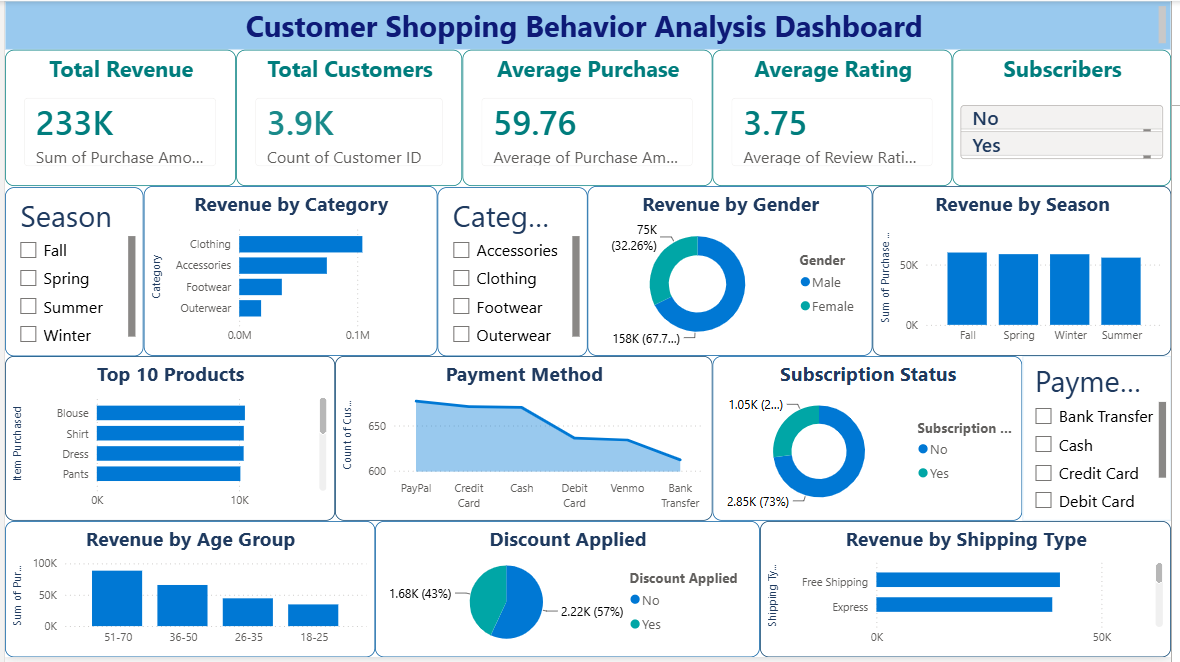

The dashboard page shown, as its layout file describes it:
{"tool":"powerbi","page":{"name":"Page 1","canvas":[1280,720],"ordinal":0},"visuals":[{"type":"textbox","box":[0,0,1280.3,53.5],"z":0},{"type":"cardVisual","title":"Total Revenue","fields":{"Data":["Sum(shopping_behavior_cleaned.Purchase Amount (USD))"]},"box":[0,53.5,253.9,149.6],"z":1000},{"type":"cardVisual","title":"Total Customers","fields":{"Data":["CountNonNull(shopping_behavior_cleaned.Customer ID)"]},"box":[253.9,53.5,248.4,149.6],"z":2000},{"type":"cardVisual","title":"Average Purchase","fields":{"Data":["Avg(shopping_behavior_cleaned.Purchase Amount (USD))"]},"box":[502.2,53.5,274.4,149.6],"z":3000},{"type":"cardVisual","title":"Average Rating","fields":{"Data":["Avg(shopping_behavior_cleaned.Review Rating)"]},"box":[776.7,53.5,263.5,149.6],"z":4000},{"type":"cardVisual","title":"Subscribers","fields":{"Rows":["shopping_behavior_cleaned.Subscription Status"]},"box":[1040.1,53.5,240.1,149.6],"z":5000},{"type":"clusteredBarChart","title":"Revenue by Category","fields":{"Category":["shopping_behavior_cleaned.Category"],"Y":["Sum(shopping_behavior_cleaned.Purchase Amount (USD))"]},"box":[152.3,203.1,322.5,186.6],"z":6000},{"type":"donutChart","title":"Revenue by Gender ","fields":{"Category":["shopping_behavior_cleaned.Gender"],"Y":["Sum(shopping_behavior_cleaned.Purchase Amount (USD))"]},"box":[639.5,203.1,312.9,186.6],"z":7000},{"type":"clusteredColumnChart","title":"Revenue by Season  ","fields":{"Category":["shopping_behavior_cleaned.Season"],"Y":["Sum(shopping_behavior_cleaned.Purchase Amount (USD))"]},"box":[952.3,203.1,328,186.6],"z":8000},{"type":"clusteredBarChart","title":"Top 10 Products ","fields":{"Category":["shopping_behavior_cleaned.Item Purchased"],"Y":["Sum(shopping_behavior_cleaned.Purchase Amount (USD))"]},"box":[0,389.7,362.3,181.1],"z":9000},{"type":"areaChart","title":"Payment Method","fields":{"Category":["shopping_behavior_cleaned.Payment Method"],"Y":["CountNonNull(shopping_behavior_cleaned.Customer ID)"]},"box":[362.3,389.7,414.4,181.1],"z":10000},{"type":"donutChart","title":"Subscription Status   ","fields":{"Category":["shopping_behavior_cleaned.Subscription Status"],"Y":["CountNonNull(shopping_behavior_cleaned.Customer ID)"]},"box":[776.7,389.7,340.3,181.1],"z":11000},{"type":"clusteredColumnChart","title":"Revenue by Age Group","fields":{"Category":["shopping_behavior_cleaned.Age Group"],"Y":["Sum(shopping_behavior_cleaned.Purchase Amount (USD))"]},"box":[0,570.8,406.2,149.6],"z":12000},{"type":"pieChart","title":"Discount Applied","fields":{"Category":["shopping_behavior_cleaned.Discount Applied"],"Y":["CountNonNull(shopping_behavior_cleaned.Customer ID)"]},"box":[406.2,570.8,422.6,149.6],"z":13000},{"type":"clusteredBarChart","title":"Revenue by Shipping Type","fields":{"Category":["shopping_behavior_cleaned.Shipping Type"],"Y":["Sum(shopping_behavior_cleaned.Purchase Amount (USD))"]},"box":[828.8,570.8,451.5,149.6],"z":14000},{"type":"slicer","fields":{"Values":["shopping_behavior_cleaned.Season"]},"box":[0,204.5,152.3,185.2],"z":14001},{"type":"slicer","fields":{"Values":["shopping_behavior_cleaned.Category"]},"box":[474.8,204.5,164.7,185.2],"z":14002},{"type":"slicer","fields":{"Values":["shopping_behavior_cleaned.Payment Method"]},"box":[1117,390,163,181],"z":14003}]}

Visuals, with their boxes in screenshot pixels (x1, y1, x2, y2), scaled from the page's 1280x720 canvas onto the 1180x662 screenshot:
textbox: (0,0,1179,49)
"Total Revenue" cardVisual: (0,49,234,187)
"Total Customers" cardVisual: (234,49,463,187)
"Average Purchase" cardVisual: (463,49,716,187)
"Average Rating" cardVisual: (716,49,959,187)
"Subscribers" cardVisual: (959,49,1179,187)
"Revenue by Category" clusteredBarChart: (140,187,438,358)
"Revenue by Gender " donutChart: (590,187,878,358)
"Revenue by Season  " clusteredColumnChart: (878,187,1179,358)
"Top 10 Products " clusteredBarChart: (0,358,334,525)
"Payment Method" areaChart: (334,358,716,525)
"Subscription Status   " donutChart: (716,358,1030,525)
"Revenue by Age Group" clusteredColumnChart: (0,525,374,661)
"Discount Applied" pieChart: (374,525,764,661)
"Revenue by Shipping Type" clusteredBarChart: (764,525,1179,661)
slicer - shopping_behavior_cleaned.Season: (0,188,140,358)
slicer - shopping_behavior_cleaned.Category: (438,188,590,358)
slicer - shopping_behavior_cleaned.Payment Method: (1030,359,1179,525)
